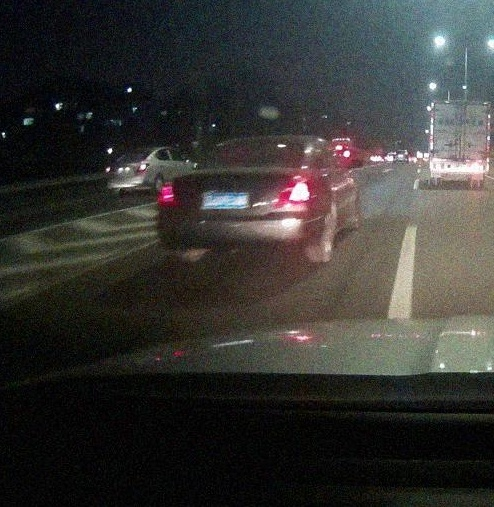L_light: (157, 180, 182, 206), (105, 166, 113, 174), (434, 163, 444, 169)
R_light: (274, 176, 315, 205), (136, 163, 149, 173), (474, 164, 484, 170)
T_light: (247, 138, 277, 147), (453, 103, 466, 108), (135, 149, 143, 153)
night-no: (155, 134, 321, 265), (428, 100, 490, 187), (104, 145, 154, 199)
